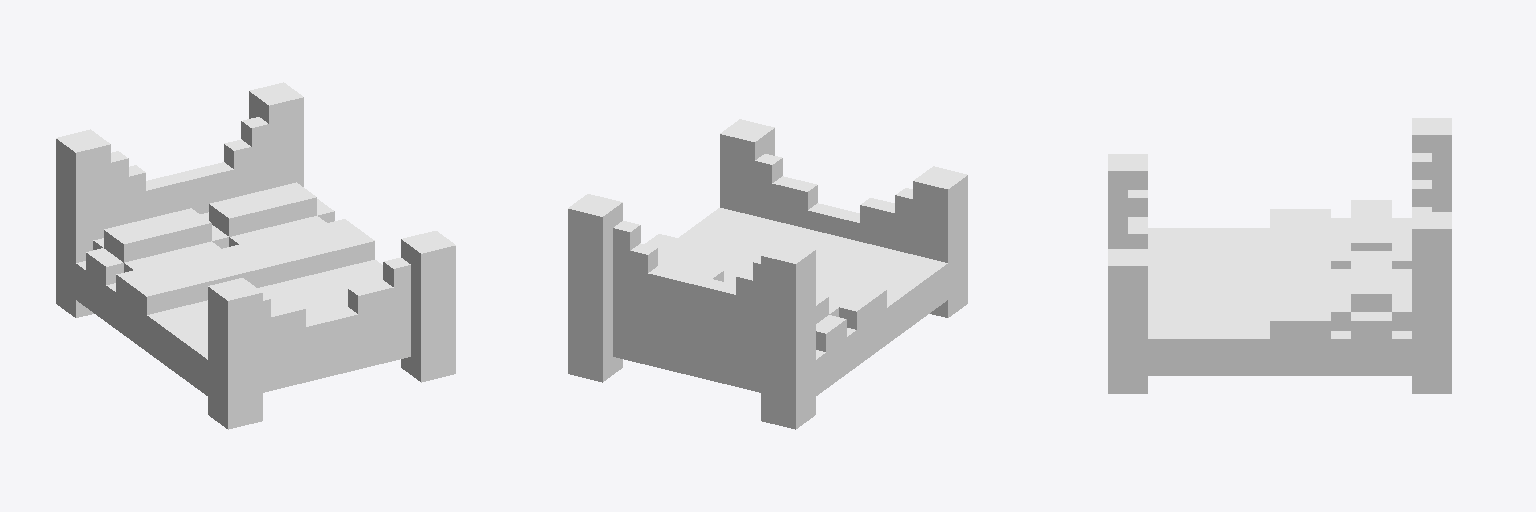
Rendered from Bed_Queen_Green.obj.
3 renders of one model, left to right at view 1: azimuth 30°, elevation 25°; view 2: azimuth 150°, elevation 25°; view 3: azimuth 270°, elevation 25°, orthographic.
Parts seen in each view (by area): view 1: Bed_Queen_Green; view 2: Bed_Queen_Green; view 3: Bed_Queen_Green.
Boxes of the visible parts, x1=… form: Bed_Queen_Green: x1=56, y1=82, x2=455, y2=429; Bed_Queen_Green: x1=568, y1=119, x2=967, y2=429; Bed_Queen_Green: x1=1108, y1=118, x2=1451, y2=393.
Bounding box in the file's own units: 13 × 9 × 17.